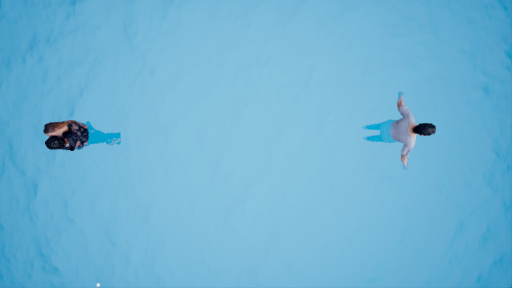person: (366, 87, 439, 171), (37, 114, 130, 156)
